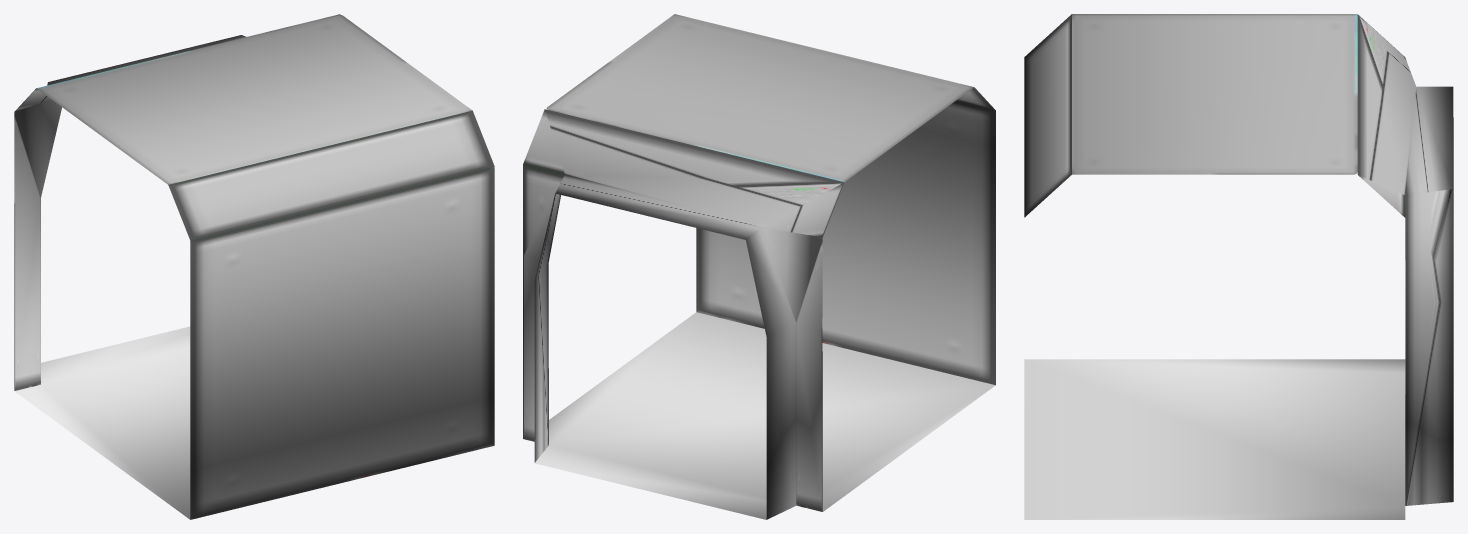
File: CC_T_corridorcollider.fbx
3 renders of one model, left to right at view 1: azimuth 30°, elevation 25°; view 2: azimuth 150°, elevation 25°; view 3: azimuth 270°, elevation 25°, orthographic. The views are drawn at different scales.
Parts seen in each view (by area): view 1: Cube_079; view 2: Cube_079; view 3: Cube_079.
Boxes of the visible parts, bbox=[...] form: Cube_079: bbox=[14, 14, 494, 519]; Cube_079: bbox=[523, 14, 995, 519]; Cube_079: bbox=[1024, 14, 1453, 519].
Size of the model in its own units: 7.99 by 8 by 9.02.
